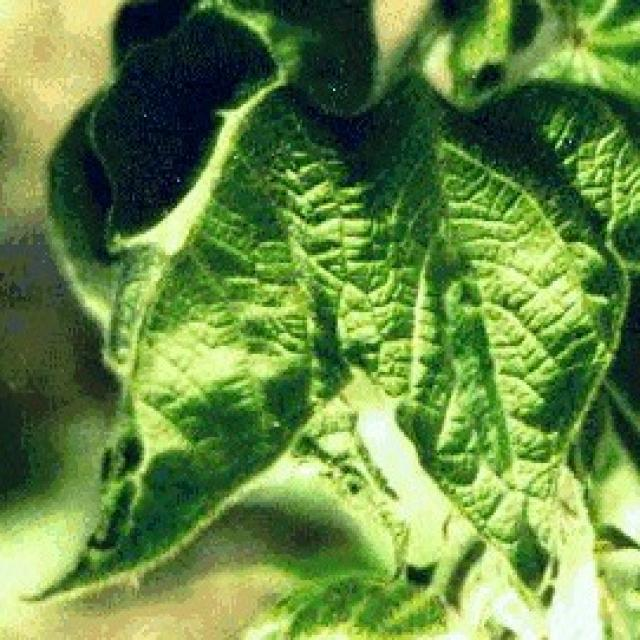Leaf Curl Virus: (178, 124, 578, 394)
